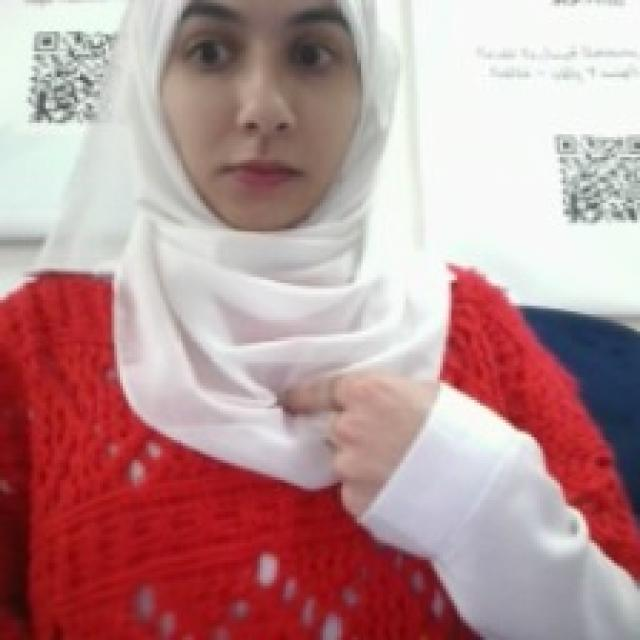me: (270, 365, 450, 530)
